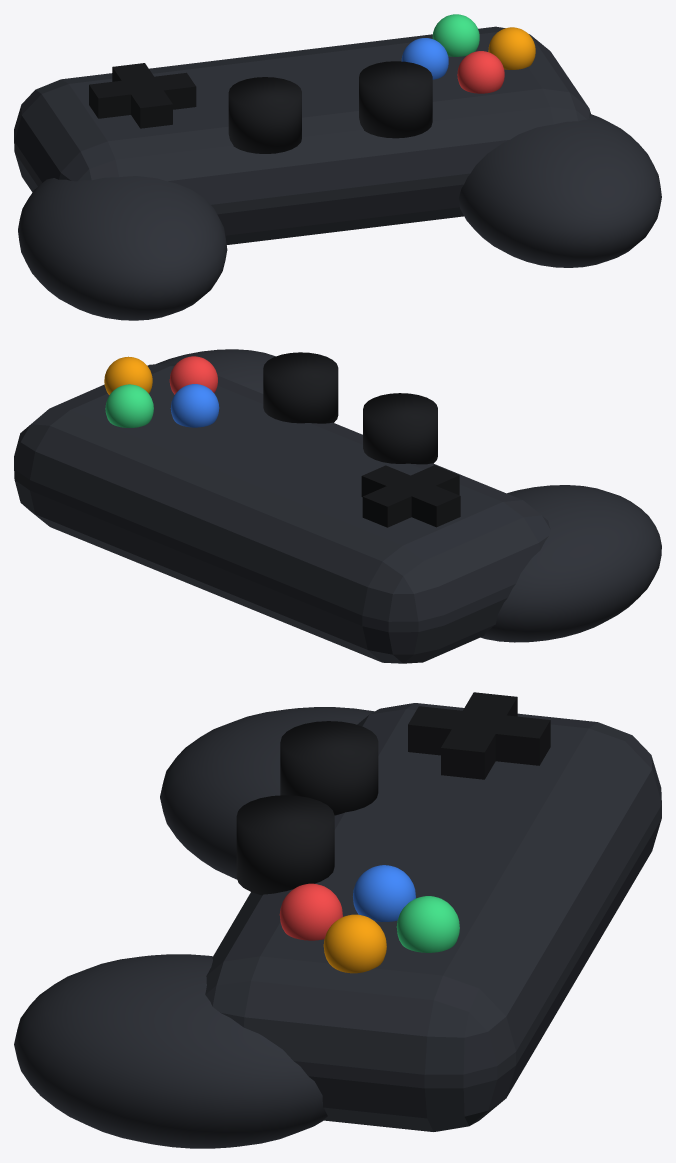
File: decor_controller.glb
3 renders of one model, top to bottom at view 1: azimuth 30°, elevation 25°; view 2: azimuth 150°, elevation 25°; view 3: azimuth 270°, elevation 25°, orthographic. The views are drawn at different scales.
Parts seen in each view (by area): view 1: decor_controller; view 2: decor_controller; view 3: decor_controller.
Boxes of the visible parts, box(x1,y1,x2,y2) form: decor_controller: box(14, 14, 661, 320); decor_controller: box(14, 349, 661, 663); decor_controller: box(14, 692, 661, 1148).
Bounding box in the file's own units: 0.1144 × 0.0339 × 0.086.
